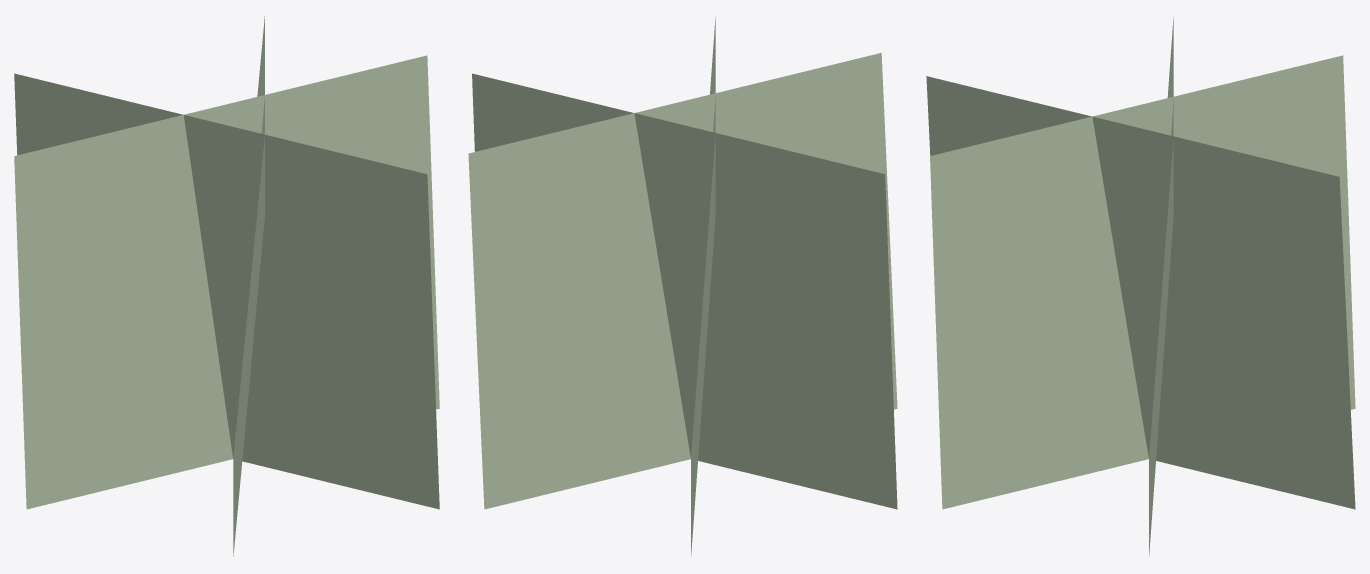
Rendered from grass-tuft-green-v1.lod1.glb.
3 views of the same model, side by side, from view 1: azimuth 30°, elevation 25°; view 2: azimuth 150°, elevation 25°; view 3: azimuth 270°, elevation 25° (orthographic).
Visible parts, largest first — view 1: grass-tuft-green-v1.lod1; view 2: grass-tuft-green-v1.lod1; view 3: grass-tuft-green-v1.lod1.
Boxes of the visible parts, x1=… form: grass-tuft-green-v1.lod1: x1=14, y1=16, x2=439, y2=556; grass-tuft-green-v1.lod1: x1=468, y1=17, x2=897, y2=556; grass-tuft-green-v1.lod1: x1=926, y1=17, x2=1355, y2=556.
Bounding box in the file's own units: 2.7 × 2.15 × 2.43.
